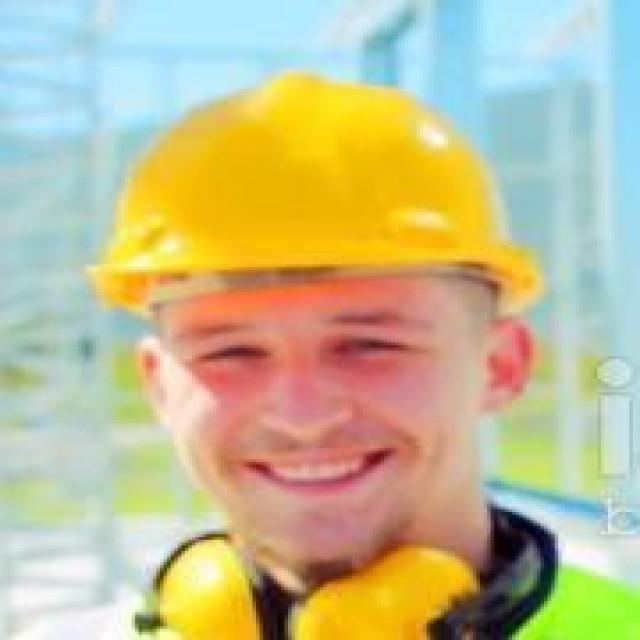hat: (85, 70, 544, 312)
